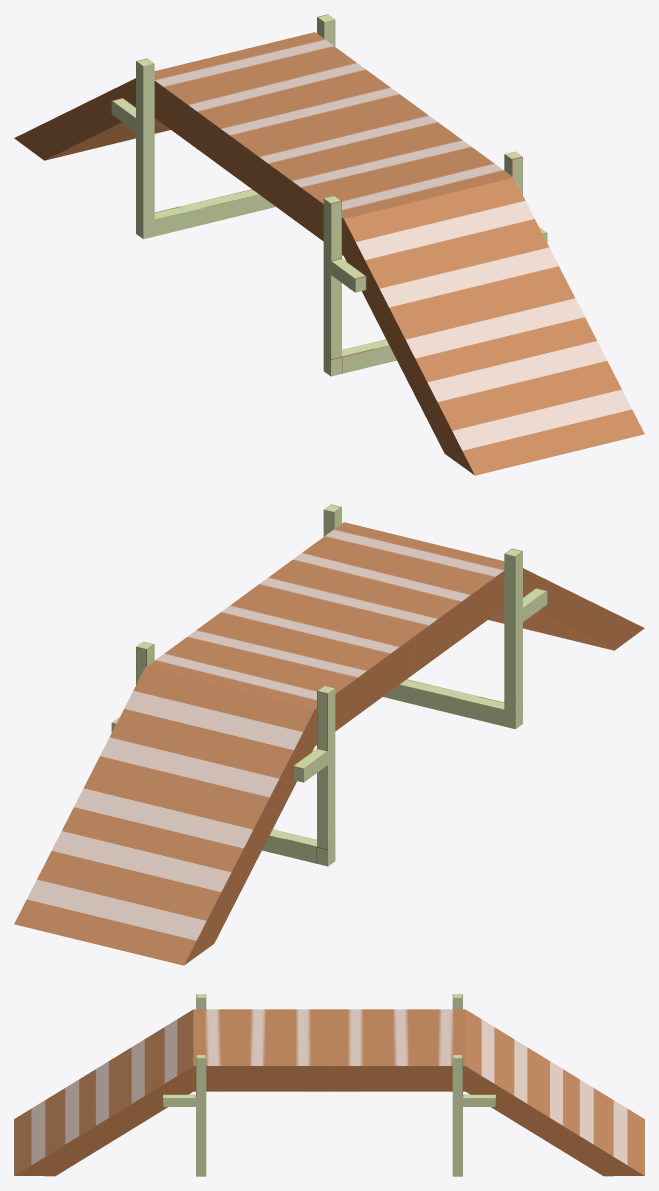
Rendered from MFC walkway.fbx.
3 views of the same model, one above another, from view 1: azimuth 30°, elevation 25°; view 2: azimuth 150°, elevation 25°; view 3: azimuth 270°, elevation 25° (orthographic). The views are drawn at different scales.
Parts seen in each view (by area): view 1: Cube; view 2: Cube; view 3: Cube.
Boxes of the visible parts, left/top/right/bottom form: Cube: left=14, top=14, right=644, bottom=475; Cube: left=14, top=504, right=644, bottom=965; Cube: left=14, top=994, right=644, bottom=1176.
Bounding box in the file's own units: 117 × 104 × 488.
